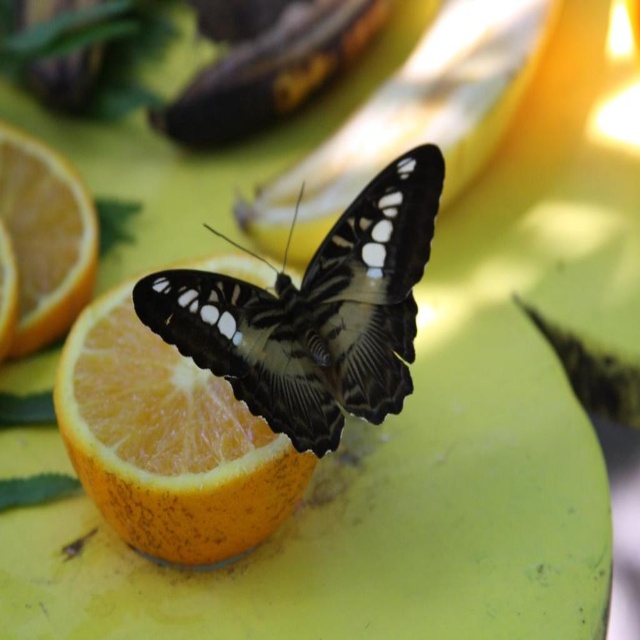Butterfly: (133, 146, 446, 461)
